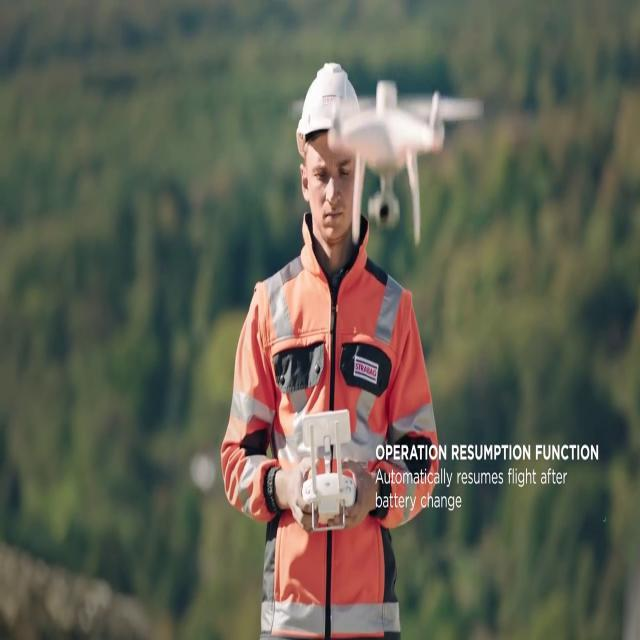drone: (319, 77, 487, 244)
